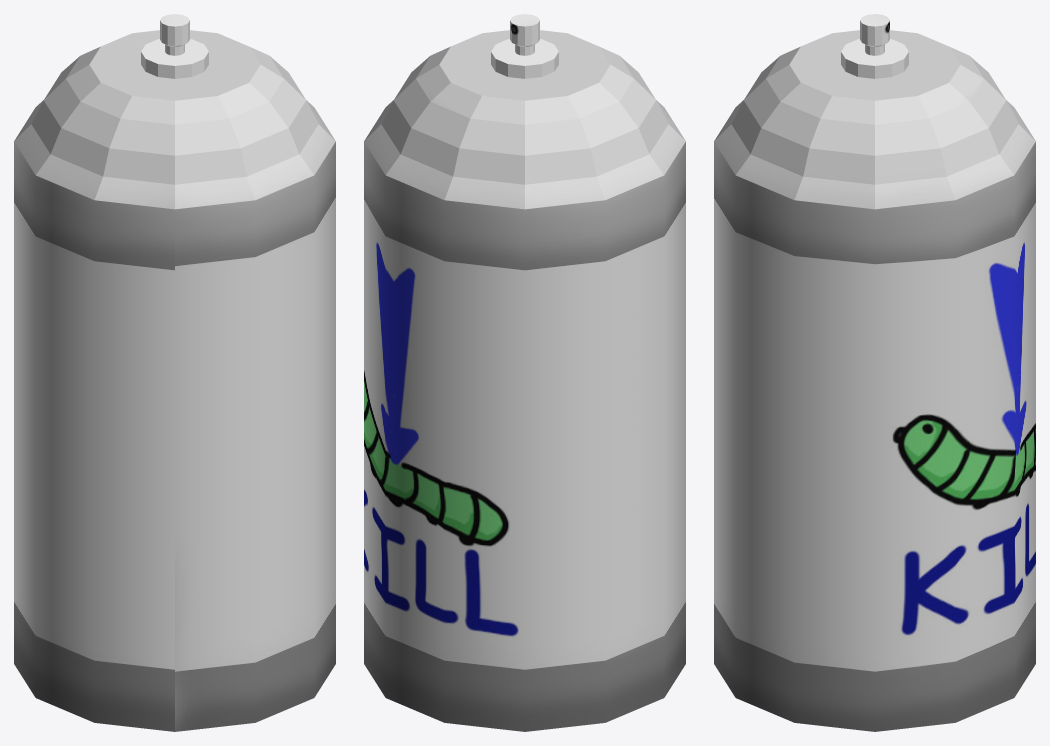
The model's file is 殺蟲劑.FBX.
3 renders of one model, left to right at view 1: azimuth 30°, elevation 25°; view 2: azimuth 150°, elevation 25°; view 3: azimuth 270°, elevation 25°, orthographic.
Parts seen in each view (by area): view 1: Cylinder001; view 2: Cylinder001; view 3: Cylinder001.
Boxes of the visible parts, left/top/right/bottom form: Cylinder001: left=14, top=14, right=335, bottom=731; Cylinder001: left=364, top=14, right=685, bottom=731; Cylinder001: left=714, top=14, right=1035, bottom=731.
Bounding box in the file's own units: 42.92 × 94.69 × 42.92.
Materials: 1 (1 with a texture image).
